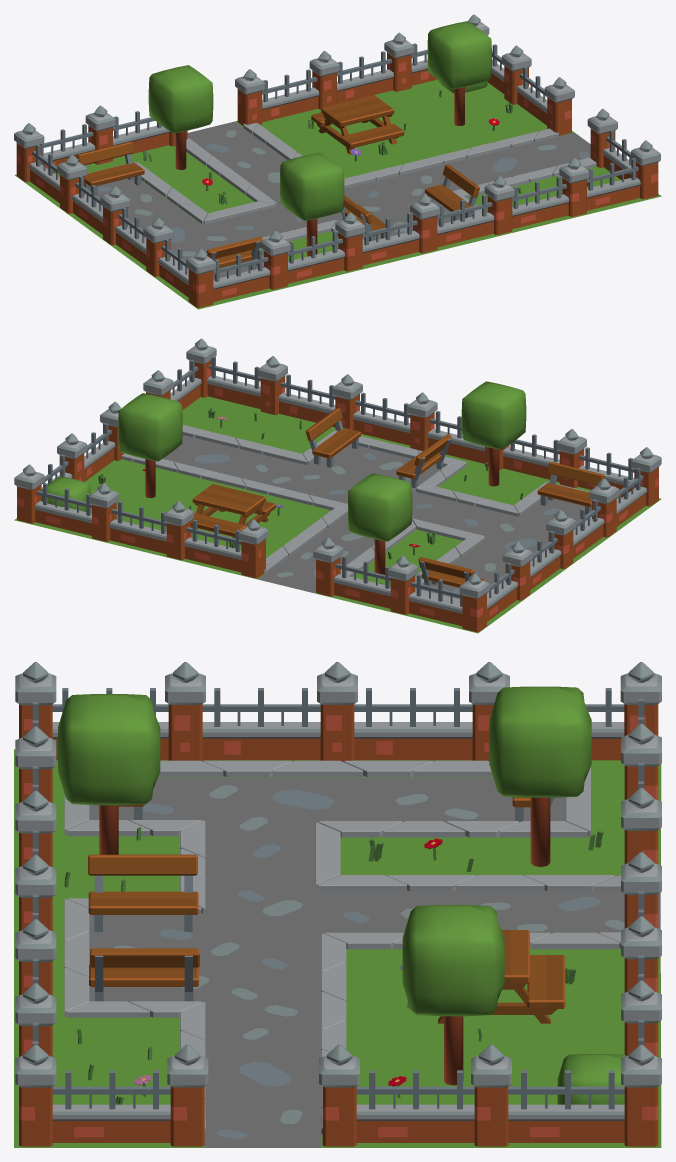
Rendered from parque.glb.
3 views of the same model, one above another, from view 1: azimuth 30°, elevation 25°; view 2: azimuth 150°, elevation 25°; view 3: azimuth 270°, elevation 25° (orthographic). The views are drawn at different scales.
Parts seen in each view (by area): view 1: Plane_4, Cube.006_3, Cube.002_1, Cube.005_2, Cube.004_0, Cube.009_57, Cube.007_53, Cube.008_55, Cube.047_123, Cube.034_116, Cube.035_117, Plane.047_47 (+4 smaller); view 2: Plane_4, Cube.002_1, Cube.006_3, Cube.005_2, Cube.004_0, Cube.007_53, Cube.008_55, Cube.009_57, Cube.047_123, Cube.046_122, Cube.022_104, Cube.033_115 (+7 smaller); view 3: Plane_4, Cube.004_0, Cube.005_2, Cube.002_1, Cube.006_3, Cube.007_53, Cube.009_57, Cube.008_55, Cube.047_123, Cube.021_103, Cube.046_122, Cube.020_102 (+34 smaller).
Boxes of the visible parts, left/top/right/bottom form: Plane_4: left=15, top=79, right=661, bottom=309; Cube.006_3: left=186, top=157, right=640, bottom=307; Cube.002_1: left=41, top=14, right=489, bottom=172; Cube.005_2: left=14, top=123, right=188, bottom=297; Cube.004_0: left=487, top=44, right=660, bottom=199; Cube.009_57: left=148, top=65, right=213, bottom=133; Cube.007_53: left=427, top=21, right=491, bottom=89; Cube.008_55: left=280, top=152, right=344, bottom=220; Cube.047_123: left=311, top=95, right=404, bottom=154; Cube.034_116: left=84, top=162, right=144, bottom=186; Cube.035_117: left=76, top=142, right=133, bottom=165; Plane.047_47: left=204, top=201, right=275, bottom=224; Plane_4: left=14, top=396, right=661, bottom=633; Cube.002_1: left=14, top=464, right=462, bottom=626; Cube.006_3: left=207, top=356, right=661, bottom=506; Cube.005_2: left=459, top=468, right=646, bottom=632; Cube.004_0: left=41, top=338, right=216, bottom=490; Cube.007_53: left=118, top=393, right=182, bottom=461; Cube.008_55: left=461, top=381, right=526, bottom=449; Cube.009_57: left=348, top=473, right=412, bottom=541; Cube.047_123: left=191, top=484, right=275, bottom=538; Cube.046_122: left=41, top=476, right=90, bottom=511; Cube.022_104: left=312, top=427, right=360, bottom=458; Cube.033_115: left=537, top=482, right=591, bottom=507; Plane_4: left=14, top=749, right=661, bottom=1147; Cube.004_0: left=15, top=1044, right=624, bottom=1146; Cube.005_2: left=52, top=662, right=661, bottom=762; Cube.002_1: left=621, top=698, right=661, bottom=1146; Cube.006_3: left=15, top=662, right=56, bottom=1056; Cube.007_53: left=402, top=905, right=504, bottom=1016; Cube.009_57: left=489, top=686, right=591, bottom=797; Cube.008_55: left=58, top=694, right=160, bottom=805; Cube.047_123: left=438, top=930, right=565, bottom=1023; Cube.021_103: left=88, top=891, right=198, bottom=914; Cube.046_122: left=557, top=1054, right=626, bottom=1104; Cube.020_102: left=88, top=854, right=197, bottom=875.
Size of the model in its own units: 29.06 by 6.11 by 19.9.
